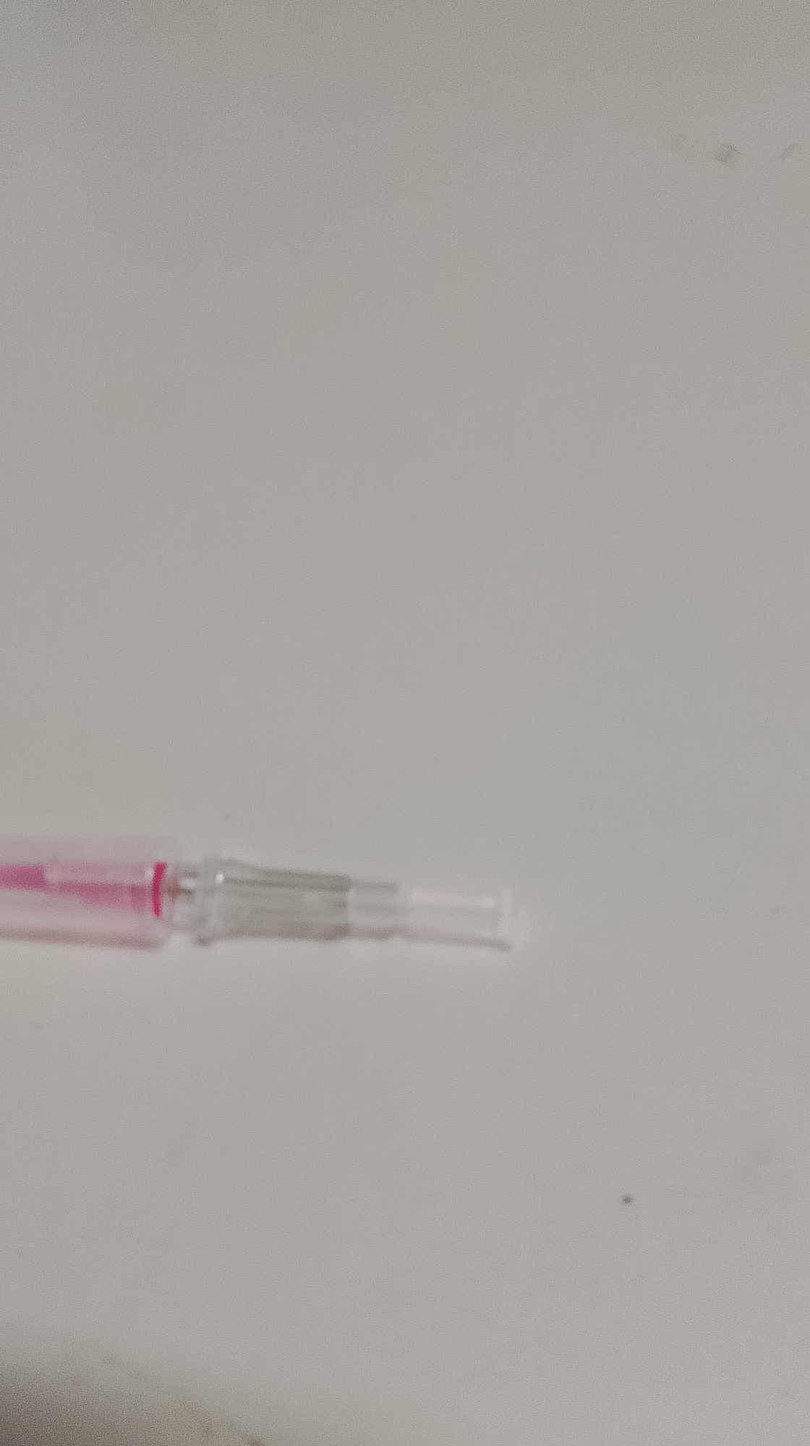Sharps: (1, 835, 521, 956)
